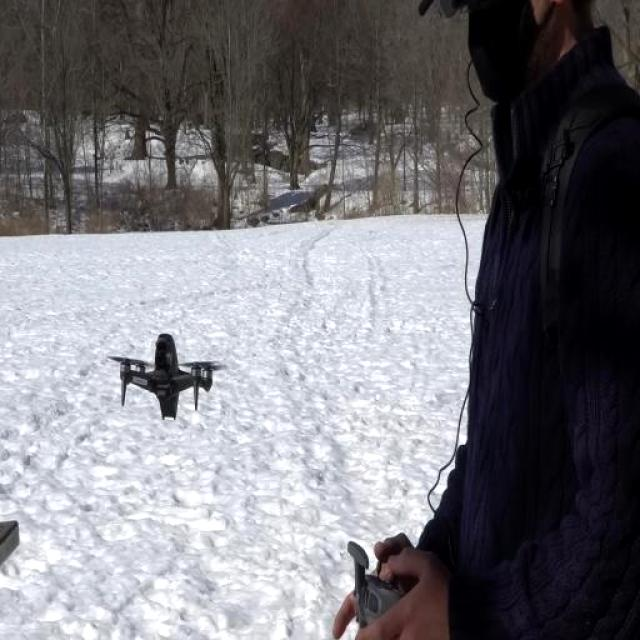bird: (109, 318, 224, 434)
